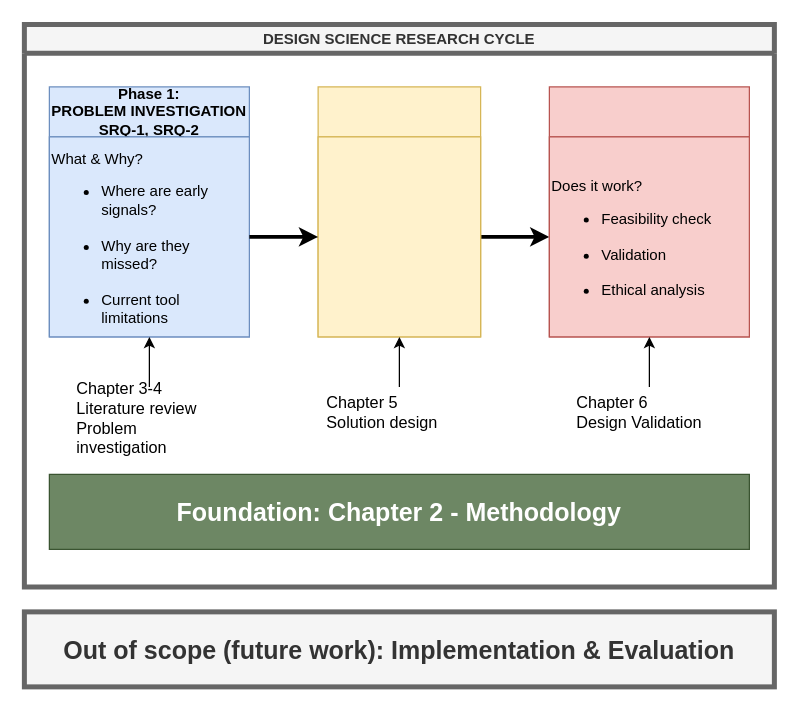
This 798x710 diagram has some shape labels left out. The box of each missing label's shape, as (x1, y1, x2, y2) in pixels:
How to solve? LLM-based methods Pipeline architecture Design choices: (317, 136, 481, 337)
Phase 2: TREATMENT DESIGN SRQ-3, SRQ-4: (317, 86, 481, 337)
Phase 3: TREATMENT VALIDATION SRQ-5, SRQ-6: (548, 86, 749, 337)
